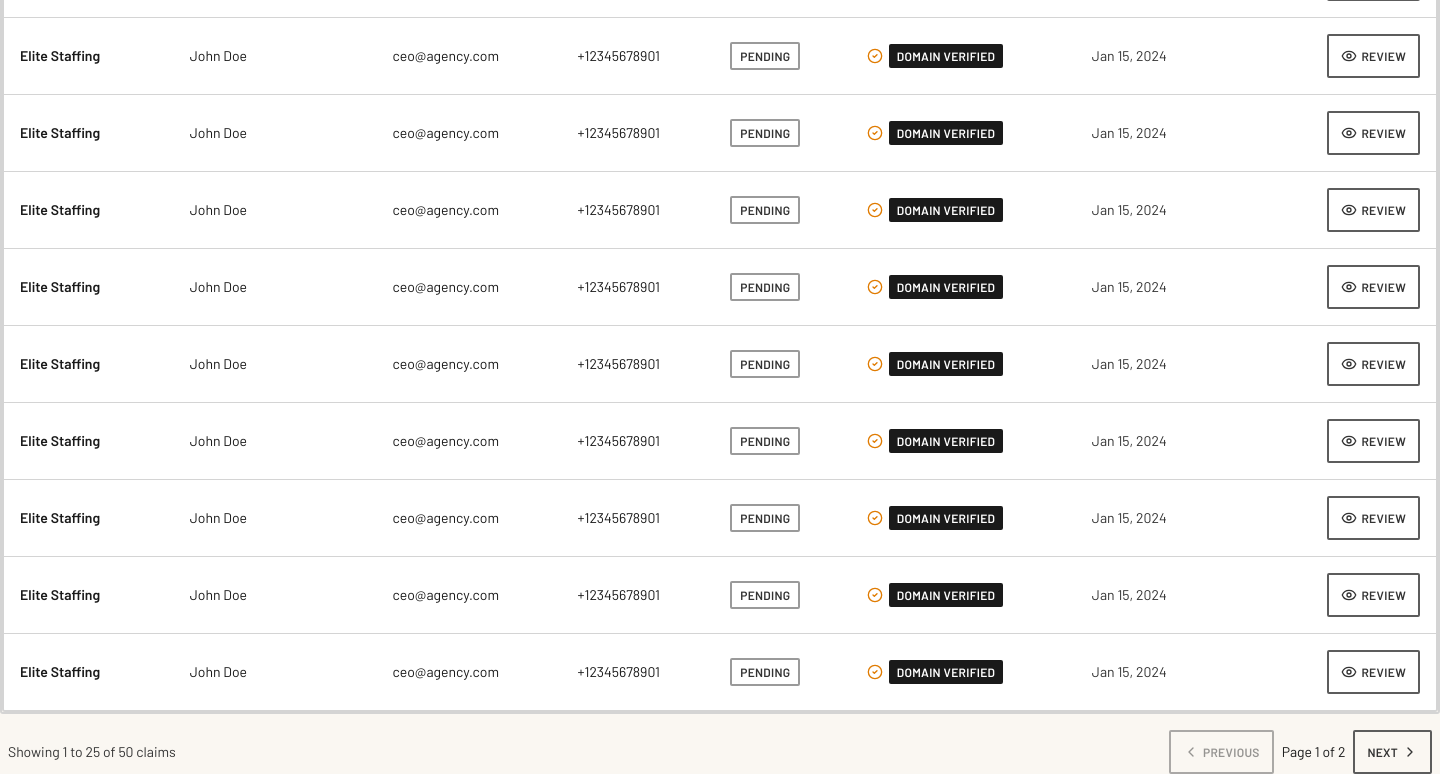
Test: ClaimsTable › Pagination › should navigate to next page when Next button is clicked
This screenshot has width=1440, height=774.
(page scrolled)
Expected: the text "Page 1 of 2" is shown, [1282,742,1345,762]
What coordinates should you click on to do the following:
click the button "Next"
I would click on:
 (1393, 752)
Its box is [1353,730,1432,773].
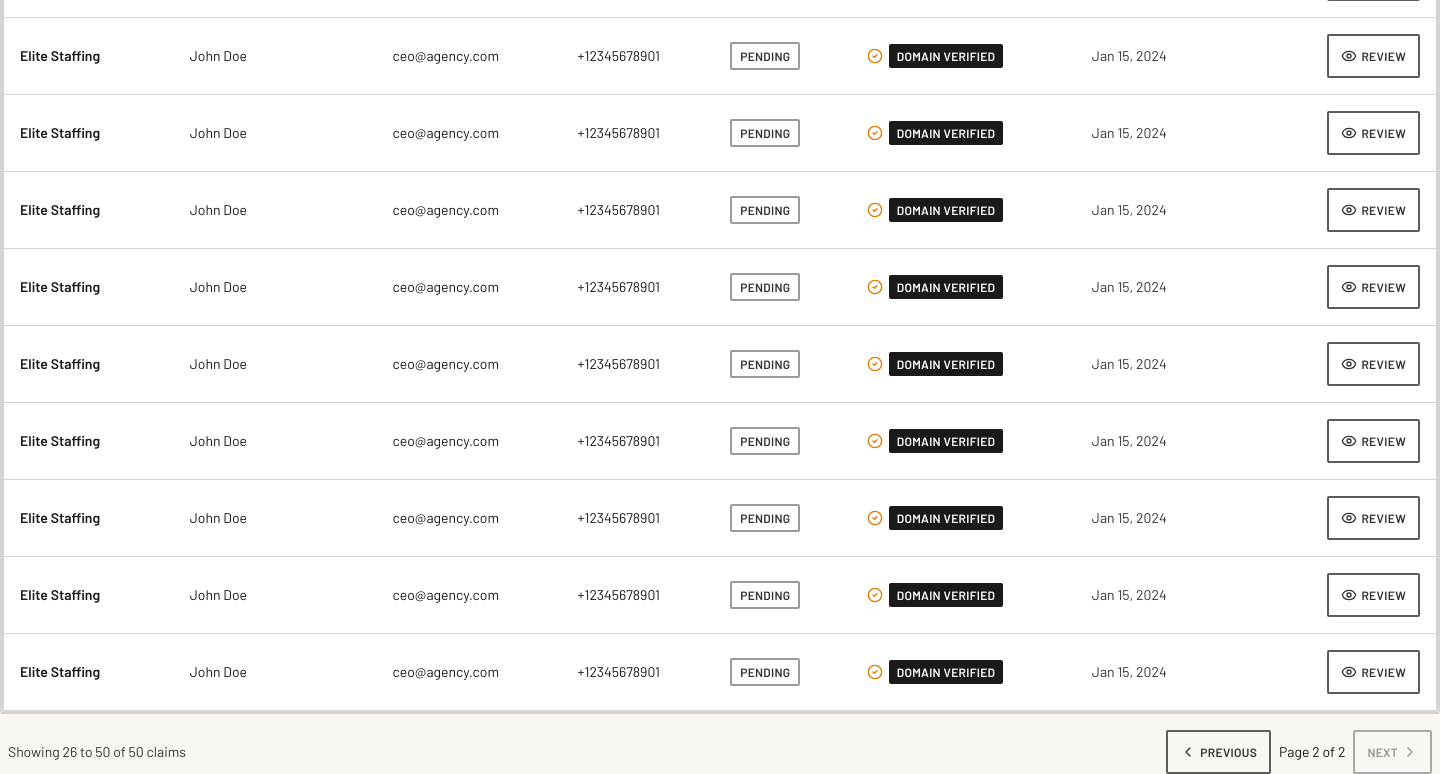
Expected: the text "Page 2 of 2" is shown, [1279,742,1345,762]
